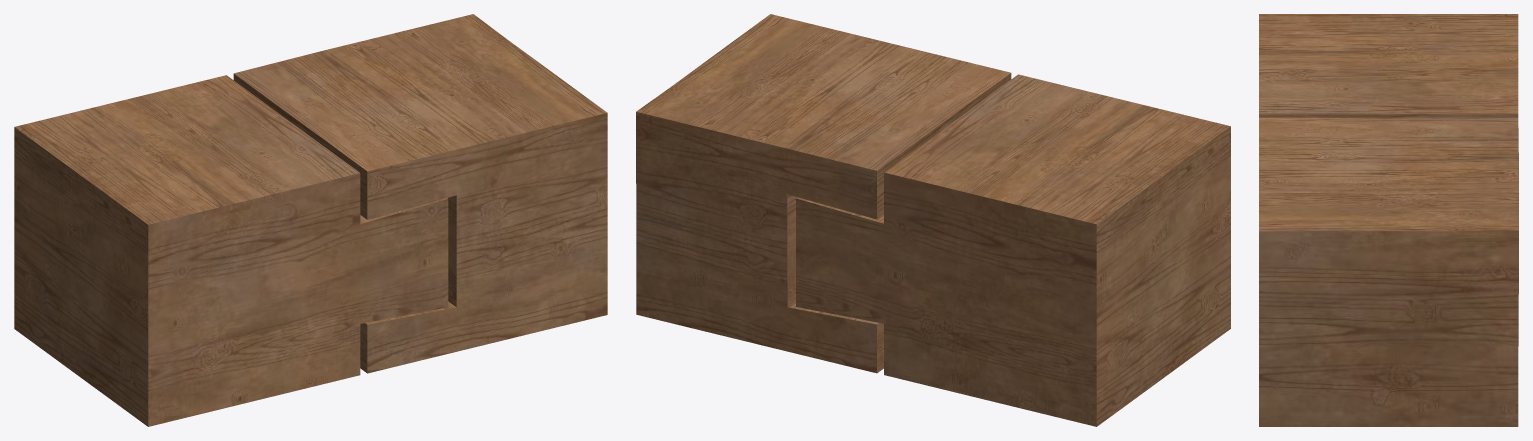
3 views of the same model, side by side, from view 1: azimuth 30°, elevation 25°; view 2: azimuth 150°, elevation 25°; view 3: azimuth 270°, elevation 25° (orthographic). The views are drawn at different scales.
Parts seen in each view (by area): view 1: 空白; view 2: 空白; view 3: 空白.
Part boxes in pixels (left/top/right/bottom): 空白: left=14, top=14, right=607, bottom=426; 空白: left=636, top=14, right=1230, bottom=426; 空白: left=1259, top=14, right=1518, bottom=426.
Bounding box in the file's own units: 0.0405 × 0.0171 × 0.0205.
1 material, 1 textured.
